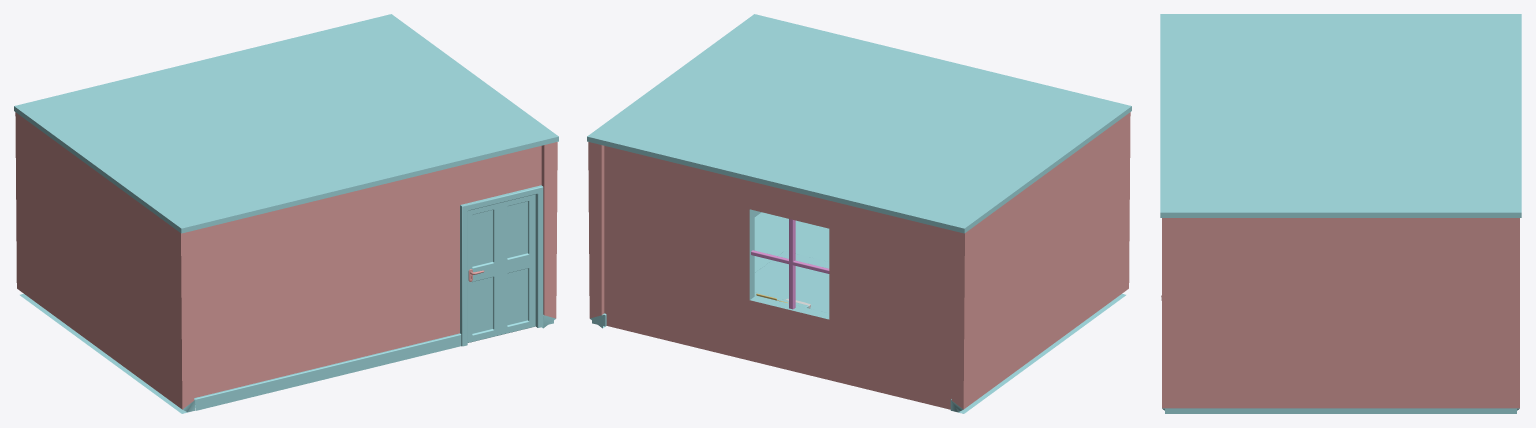
Rendered from chambre.fbx.
3 renders of one model, left to right at view 1: azimuth 30°, elevation 25°; view 2: azimuth 150°, elevation 25°; view 3: azimuth 270°, elevation 25°, orthographic. The views are drawn at different scales.
Visible parts, largest first — view 1: msh_cha_plafond, msh_cha_mur_porte, msh_cha_mur_petit, msh_cha_porte, msh_cha_mur_petit.002; view 2: msh_cha_plafond, msh_cha_mur_fenetre, msh_cha_mur_petit, msh_cha_mur_petit.002, msh_cha_tapis, msh_cha_sol; view 3: msh_cha_plafond, msh_cha_mur_petit.002.
Boxes of the visible parts, <box> form: msh_cha_plafond: <box>14,14,558,233</box>; msh_cha_mur_porte: <box>194,146,543,410</box>; msh_cha_mur_petit: <box>15,112,195,413</box>; msh_cha_porte: <box>467,194,535,342</box>; msh_cha_mur_petit.002: <box>541,142,557,328</box>; msh_cha_plafond: <box>587,14,1131,233</box>; msh_cha_mur_fenetre: <box>604,146,951,409</box>; msh_cha_mur_petit: <box>950,112,1130,413</box>; msh_cha_mur_petit.002: <box>588,142,761,328</box>; msh_cha_tapis: <box>754,251,829,313</box>; msh_cha_sol: <box>754,212,829,272</box>; msh_cha_plafond: <box>1160,14,1521,217</box>; msh_cha_mur_petit.002: <box>1162,218,1519,413</box>.
Size of the model in its own units: 648 by 311 by 498.
